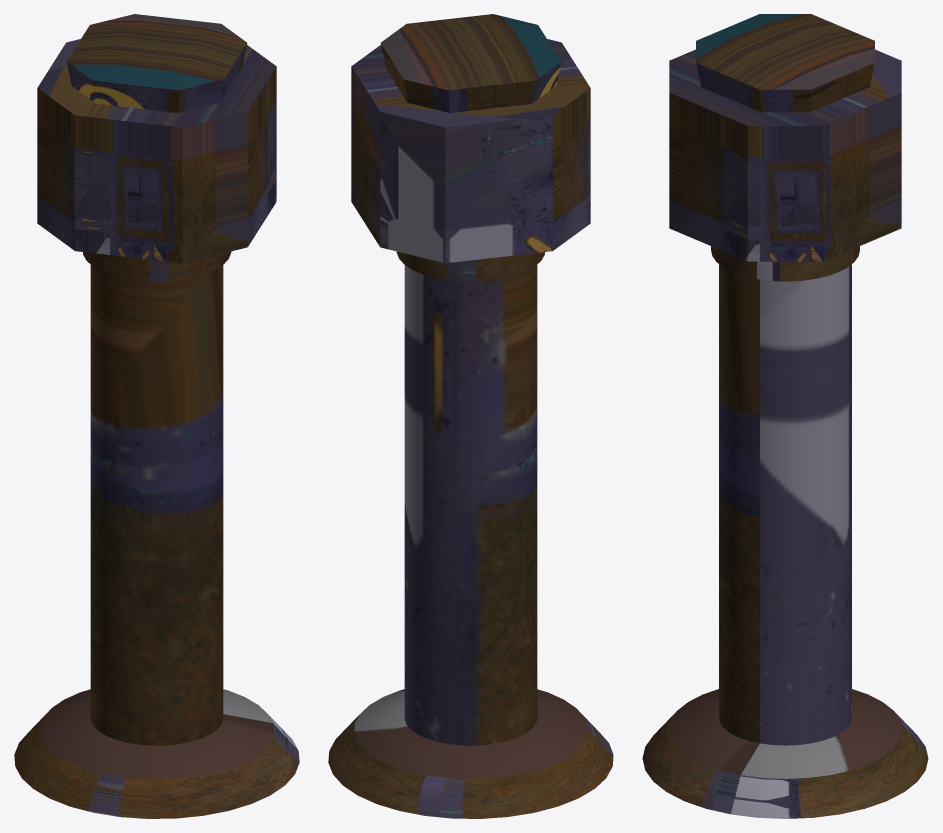
File: PoleTower.fbx
3 views of the same model, side by side, from view 1: azimuth 30°, elevation 25°; view 2: azimuth 150°, elevation 25°; view 3: azimuth 270°, elevation 25° (orthographic).
Visible parts, largest first — view 1: Cylinder, Cube; view 2: Cylinder, Cube; view 3: Cylinder, Cube.
Part boxes in pixels (x1,y1,x2,y2): Cylinder: (14, 251, 299, 818); Cube: (37, 14, 276, 263); Cylinder: (328, 251, 613, 818); Cube: (351, 14, 590, 263); Cylinder: (642, 246, 928, 818); Cube: (669, 14, 901, 261).
Size of the model in its own units: 632 by 1740 by 632.
